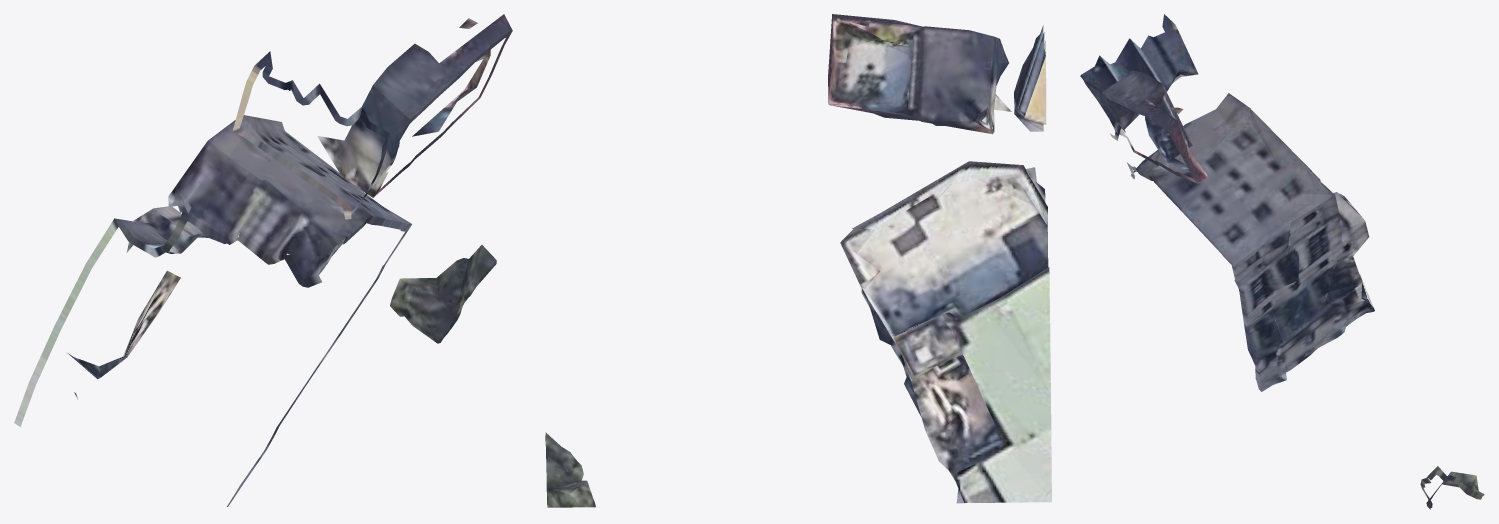
The picture shows the model from 3 angles, left to right: view 1: azimuth 30°, elevation 25°; view 2: azimuth 150°, elevation 25°; view 3: azimuth 270°, elevation 25°; orthographic projection. The views are drawn at different scales.
Bounding box in the file's own units: 36.67 × 33.14 × 32.75.
1 material, 1 textured.
